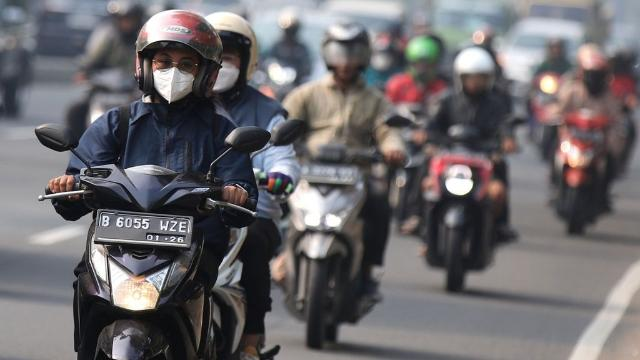helm: (135, 9, 225, 106), (202, 9, 263, 97), (321, 20, 374, 88), (452, 44, 501, 98), (405, 36, 448, 88), (579, 49, 614, 98)
motor: (33, 121, 274, 360), (274, 114, 414, 351), (407, 116, 532, 297), (538, 98, 633, 236)
